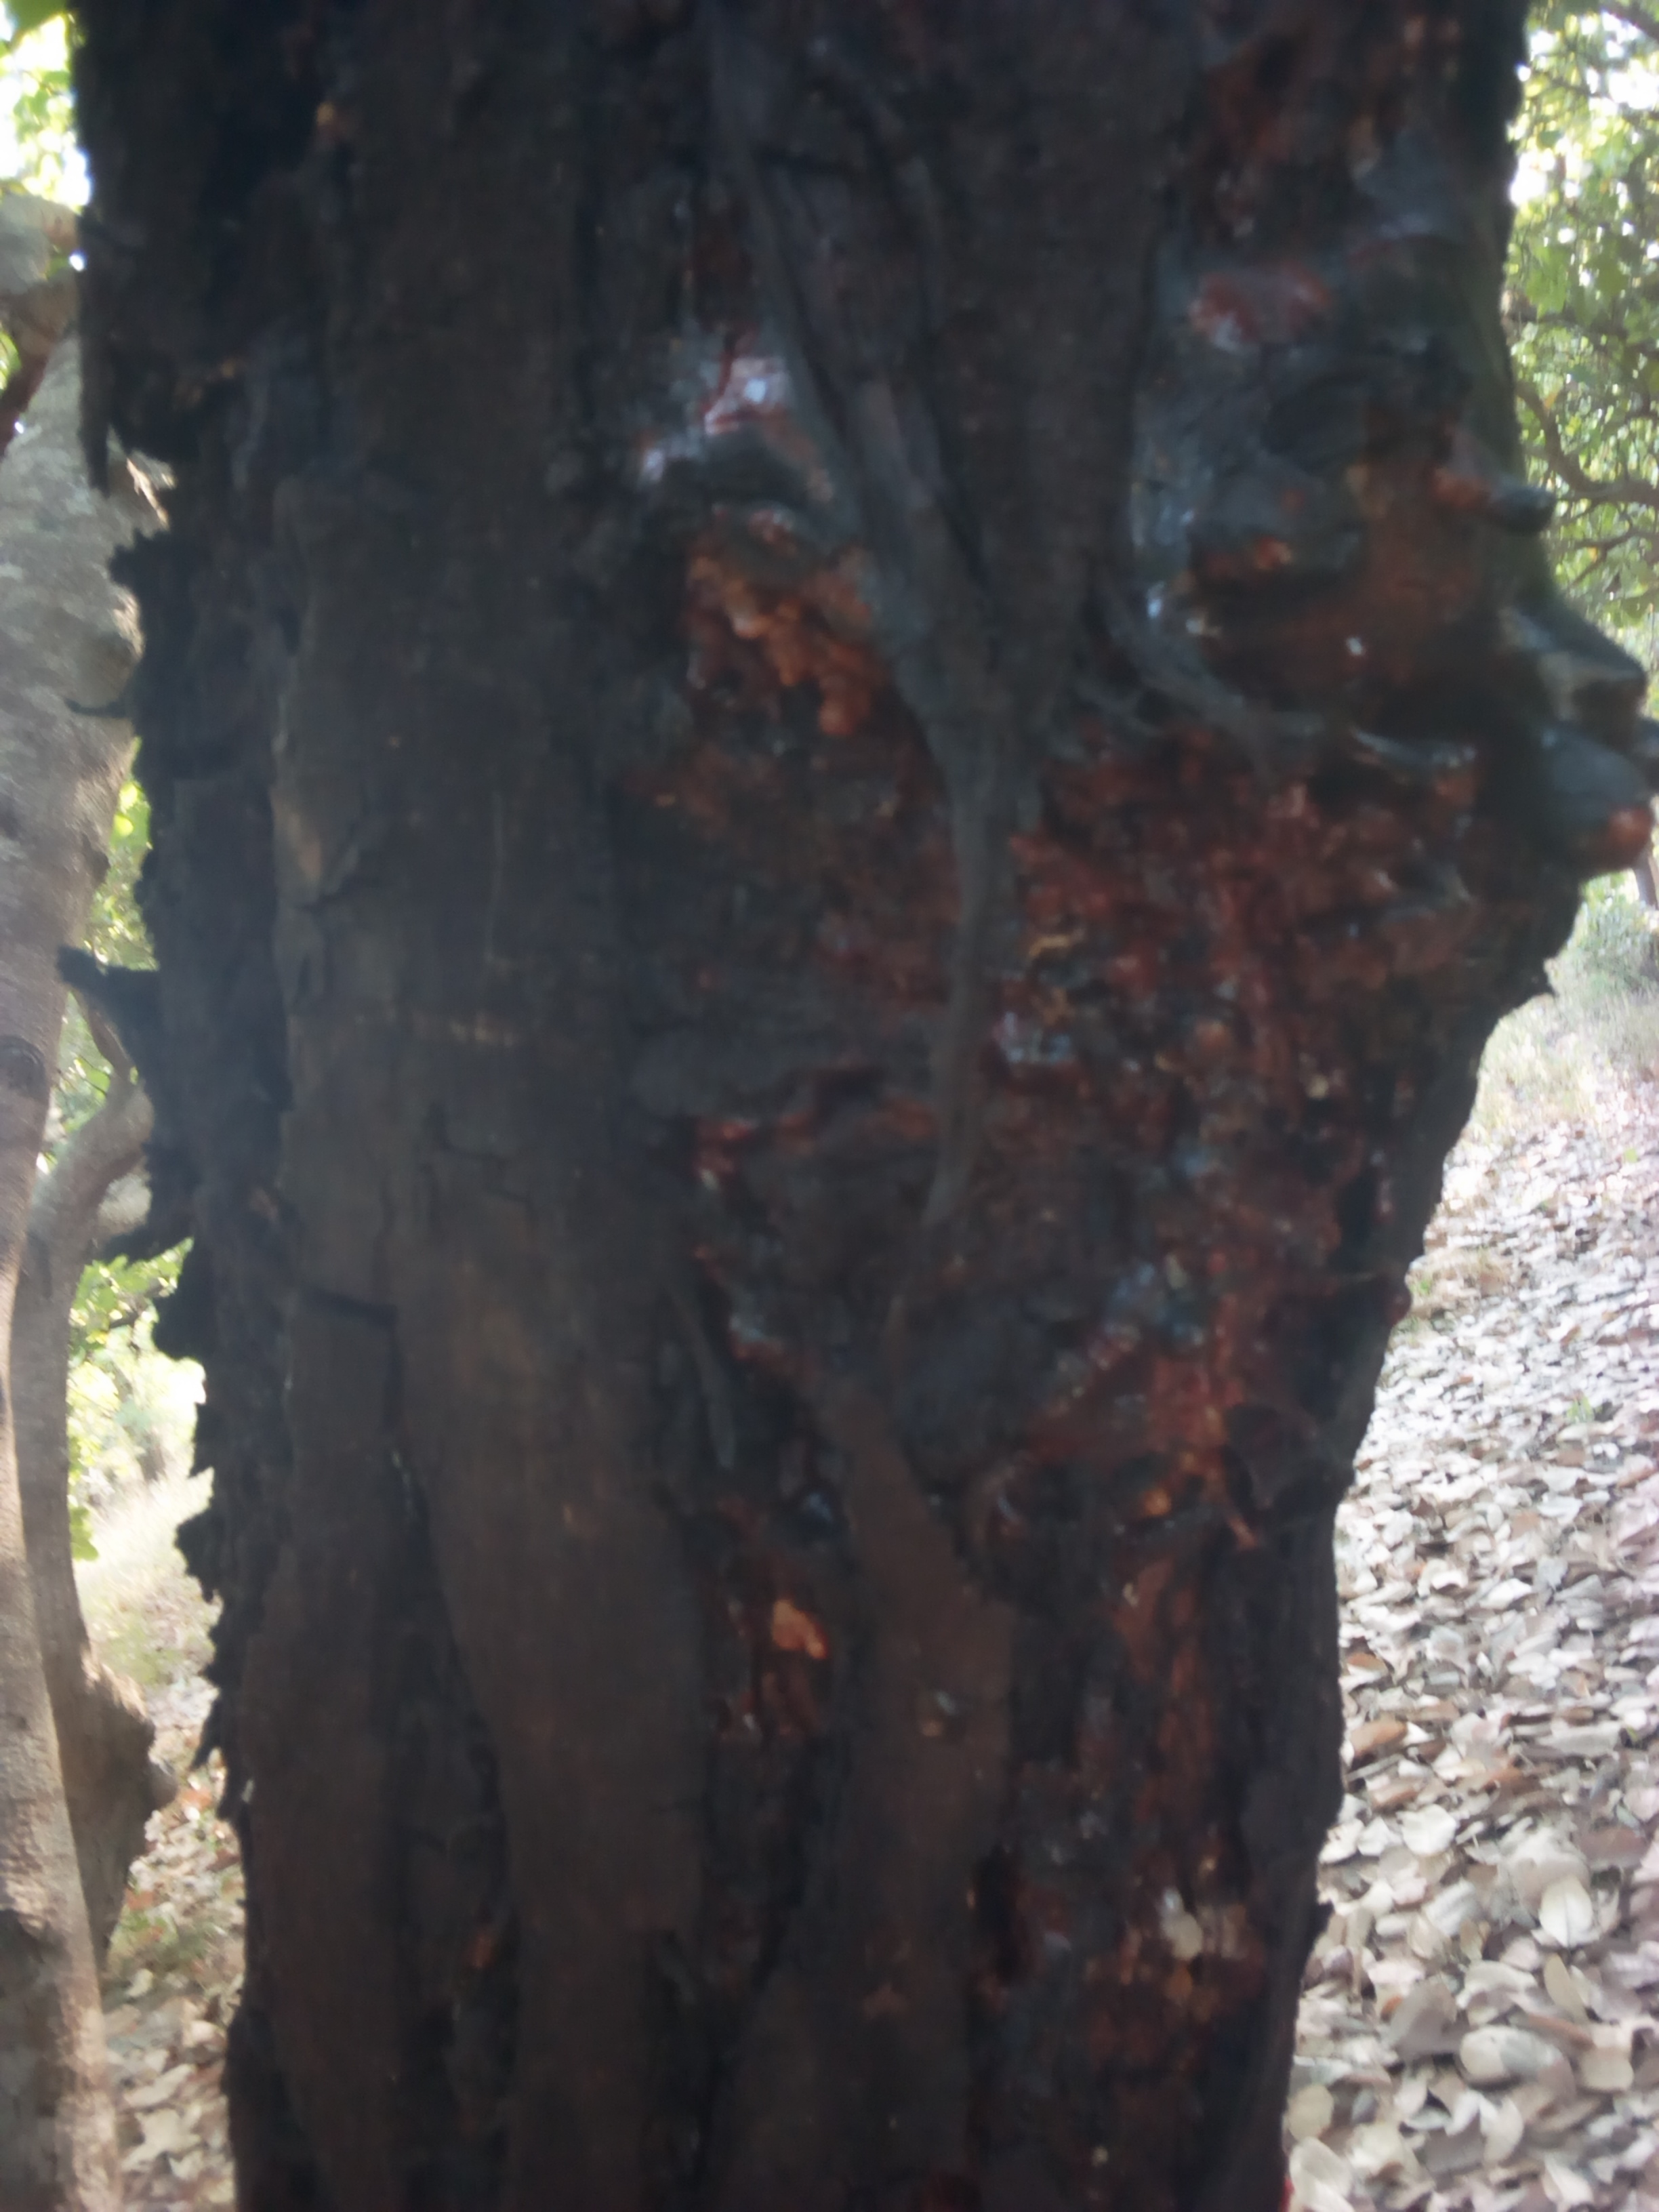Gommose: (423, 59, 1436, 2193)
